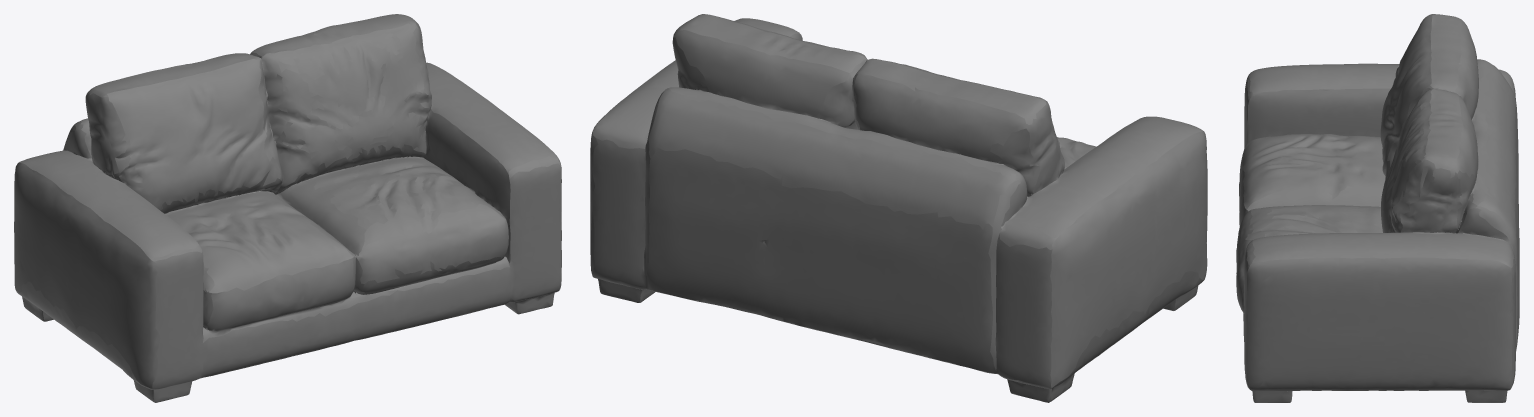
File: completion_sofa_1.glb
3 renders of one model, left to right at view 1: azimuth 30°, elevation 25°; view 2: azimuth 150°, elevation 25°; view 3: azimuth 270°, elevation 25°, orthographic. The views are drawn at different scales.
Visible parts, largest first — view 1: geometry_0; view 2: geometry_0; view 3: geometry_0.
Boxes of the visible parts, x1,y1,x2,y2 form: geometry_0: (14, 14, 561, 402); geometry_0: (590, 14, 1207, 402); geometry_0: (1236, 14, 1519, 402).
Bounding box in the file's own units: 1 × 0.517 × 0.5927.
Materials: 1 (1 with a texture image).
